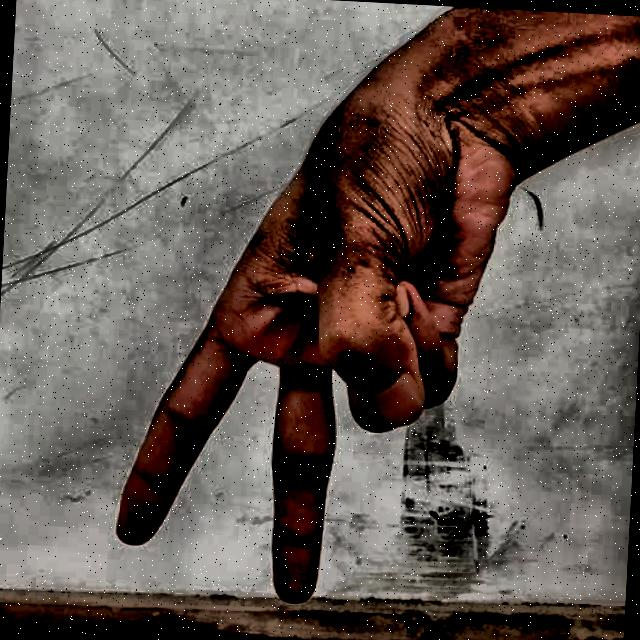Pa: (90, 37, 533, 632)
